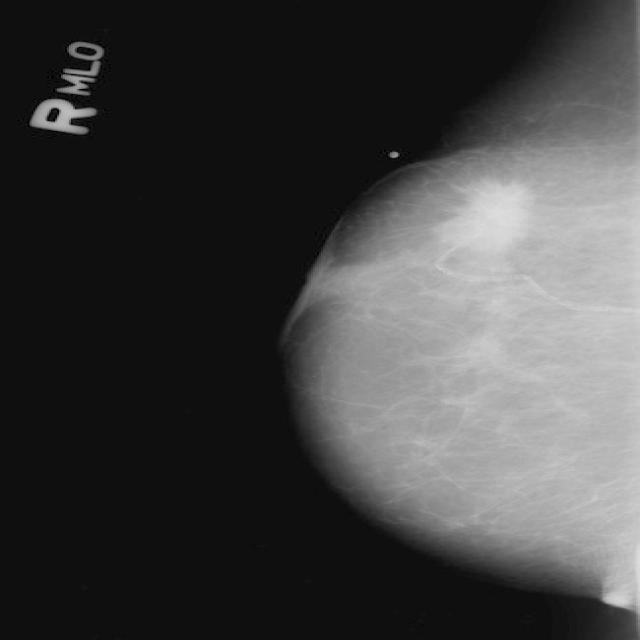tumour: (435, 183, 530, 252)
